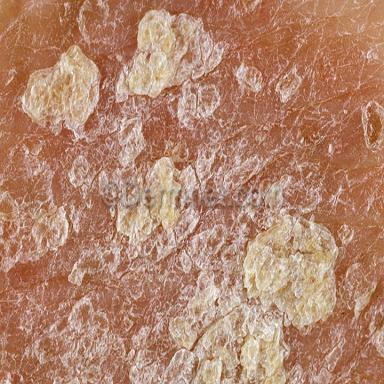Psoriasis: (0, 1, 384, 384)
